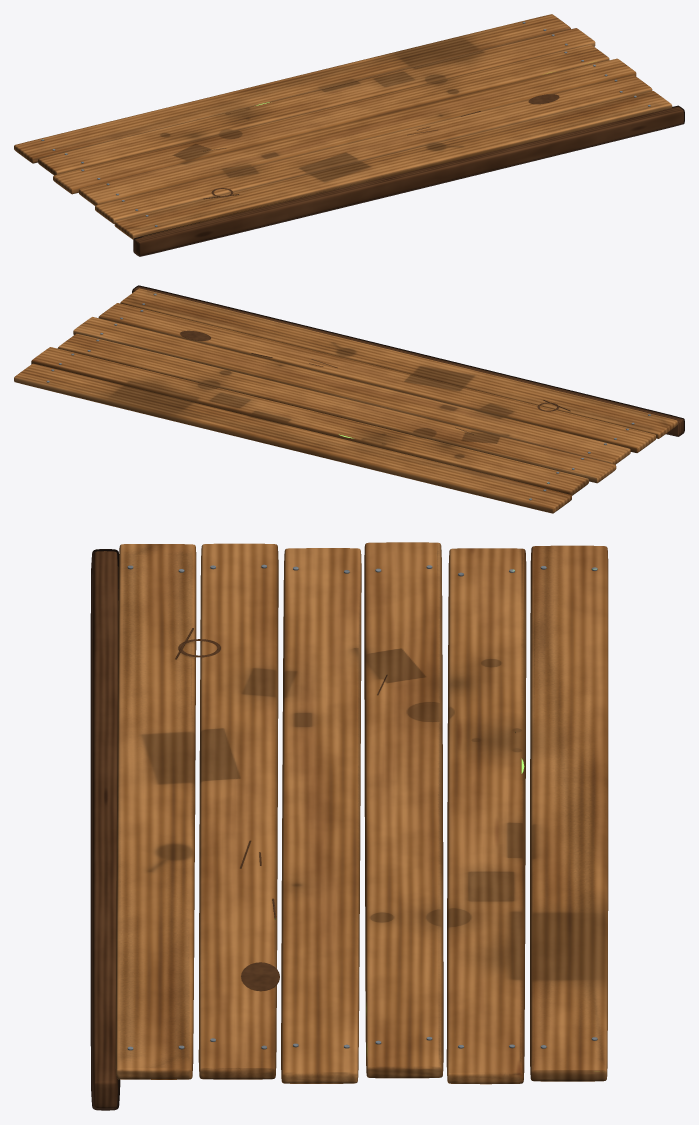
The model's file is Lab_Desk.fbx.
3 renders of one model, top to bottom at view 1: azimuth 30°, elevation 25°; view 2: azimuth 150°, elevation 25°; view 3: azimuth 270°, elevation 25°, orthographic. The views are drawn at different scales.
Visible parts, largest first — view 1: Lab_Desk, Lab_Desk_Outline; view 2: Lab_Desk, Lab_Desk_Outline; view 3: Lab_Desk, Lab_Desk_Outline.
Part boxes in pixels (bbox=[...]): Lab_Desk: bbox=[14, 14, 683, 255]; Lab_Desk_Outline: bbox=[133, 105, 684, 256]; Lab_Desk: bbox=[14, 286, 683, 513]; Lab_Desk_Outline: bbox=[132, 285, 684, 436]; Lab_Desk: bbox=[92, 542, 608, 1108]; Lab_Desk_Outline: bbox=[90, 549, 120, 1110].
Bounding box in the file's own units: 20.8 × 0.736 × 8.53.
